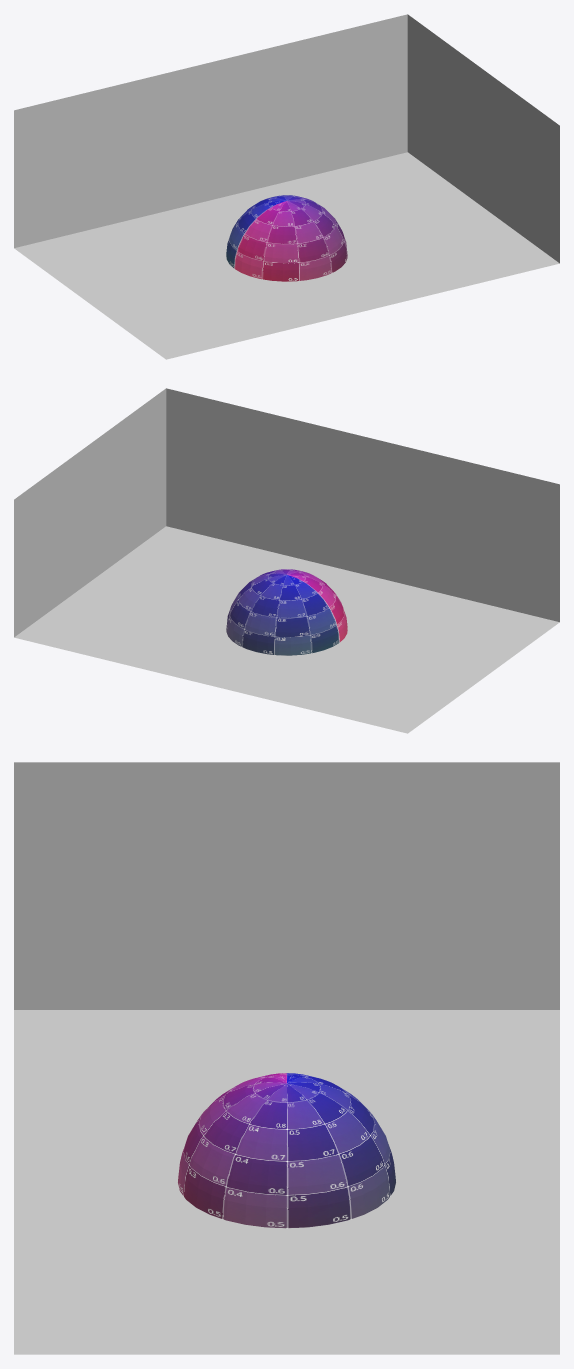
File: environment.glb
3 views of the same model, one above another, from view 1: azimuth 30°, elevation 25°; view 2: azimuth 150°, elevation 25°; view 3: azimuth 270°, elevation 25° (orthographic). The views are drawn at different scales.
Parts seen in each view (by area): view 1: Cube, Sphere; view 2: Cube, Sphere; view 3: Cube, Sphere.
Part boxes in pixels (bbox=[...]): Cube: bbox=[14, 14, 559, 359]; Sphere: bbox=[226, 195, 347, 281]; Cube: bbox=[14, 388, 559, 733]; Sphere: bbox=[226, 569, 347, 655]; Cube: bbox=[14, 762, 559, 1354]; Sphere: bbox=[178, 1073, 395, 1228].
Bounding box in the file's own units: 7.47 × 3.5 × 5.
1 material, 1 textured.
